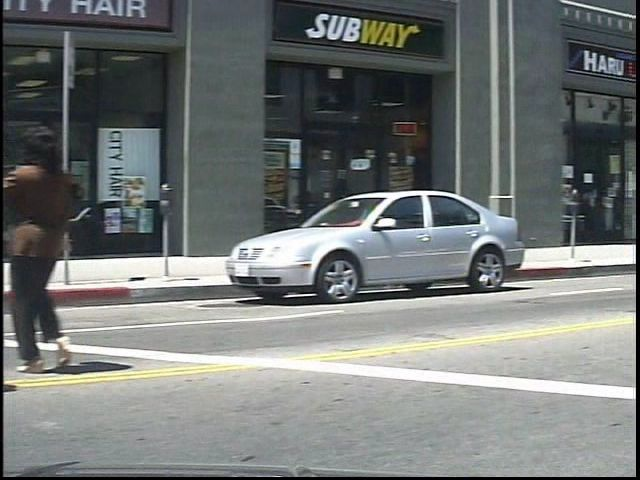person: (16, 119, 106, 372)
